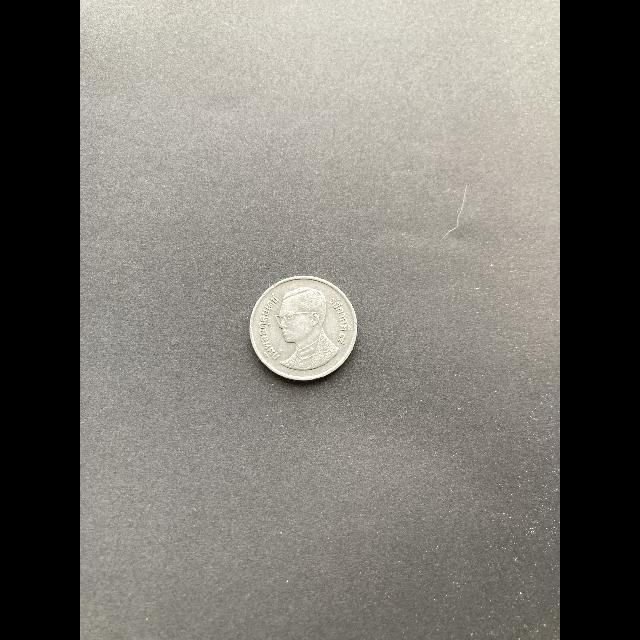1 Bath: (250, 274, 362, 384)
